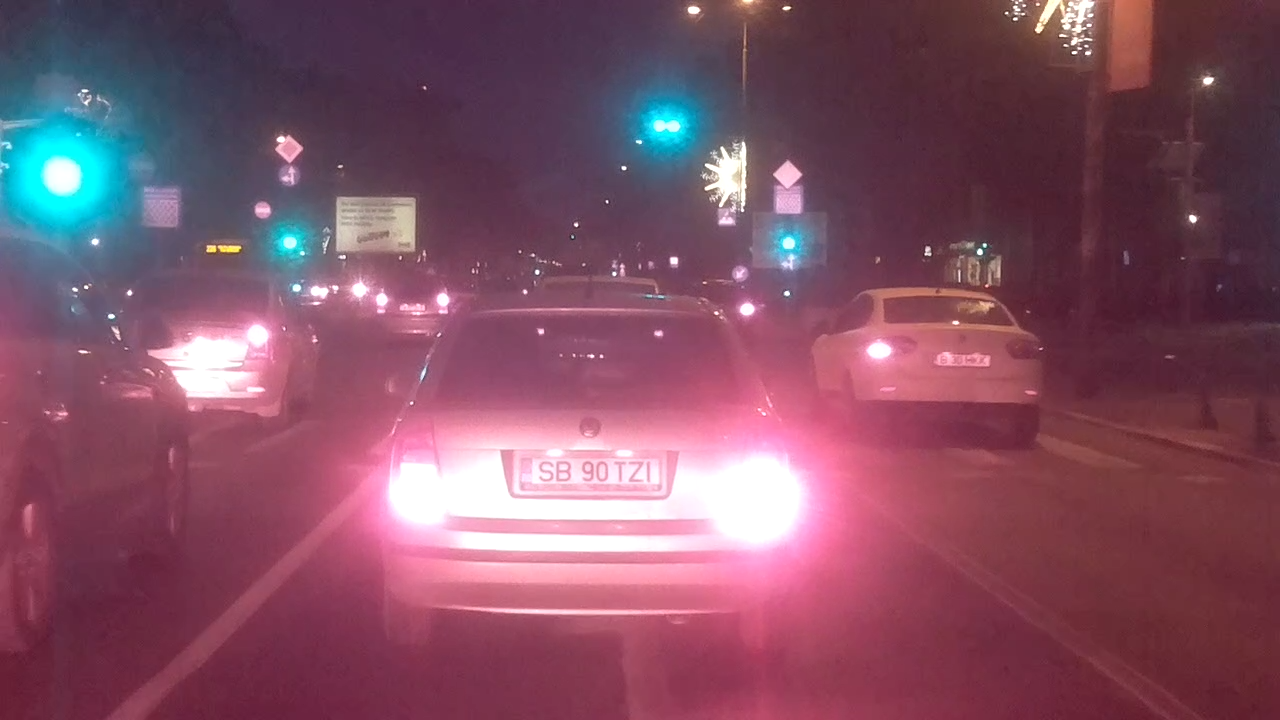license-plate: (516, 451, 665, 489)
